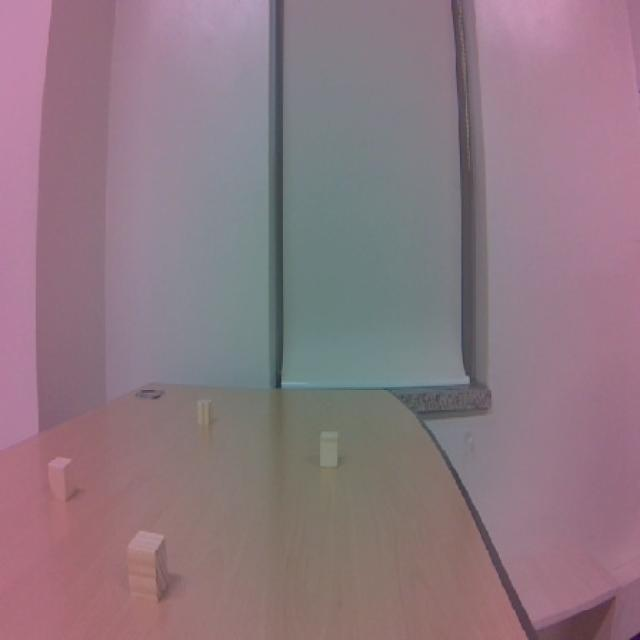obstacle: (114, 523, 176, 617), (38, 446, 82, 512), (309, 421, 346, 479), (192, 390, 222, 434)
